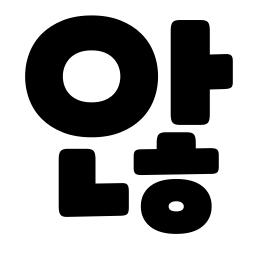Gaji: (162, 43, 222, 107)
